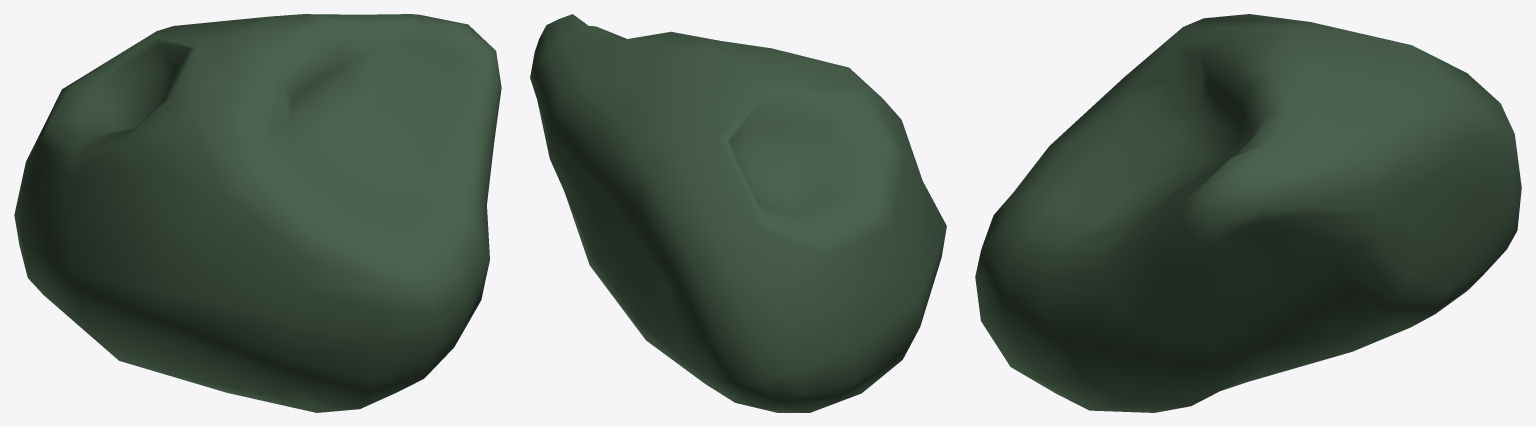
Rendered from Rock2.fbx.
3 views of the same model, side by side, from view 1: azimuth 30°, elevation 25°; view 2: azimuth 150°, elevation 25°; view 3: azimuth 270°, elevation 25° (orthographic). The views are drawn at different scales.
Parts seen in each view (by area): view 1: rock1LP:rock2LP; view 2: rock1LP:rock2LP; view 3: rock1LP:rock2LP.
Part boxes in pixels (left/top/right/bottom): rock1LP:rock2LP: left=14, top=14, right=501, bottom=412; rock1LP:rock2LP: left=530, top=14, right=946, bottom=412; rock1LP:rock2LP: left=975, top=14, right=1521, bottom=412.
Bounding box in the file's own units: 5.15 × 4.04 × 5.43.
